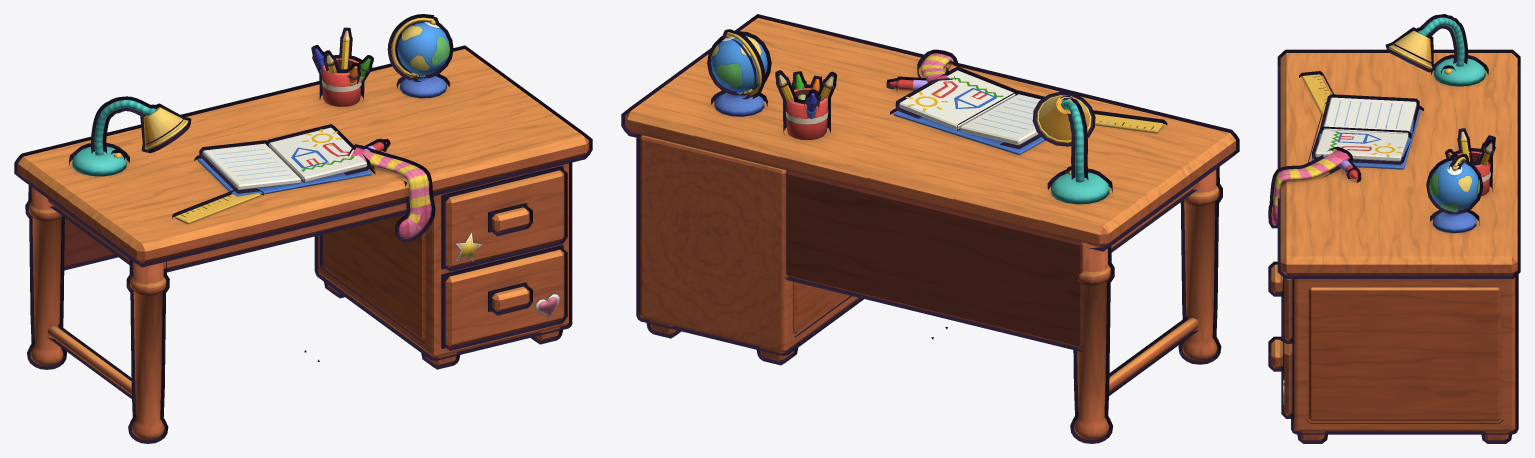
File: Desk.glb
The picture shows the model from 3 angles, left to right: view 1: azimuth 30°, elevation 25°; view 2: azimuth 150°, elevation 25°; view 3: azimuth 270°, elevation 25°; orthographic projection. The views are drawn at different scales.
Visible parts, largest first — view 1: Desk, Desk_Outline; view 2: Desk, Desk_Outline; view 3: Desk, Desk_Outline.
Part boxes in pixels (box(x1,y1,x2,y2)): Desk: box(17, 17, 589, 440); Desk_Outline: box(14, 14, 592, 443); Desk: box(625, 18, 1235, 439); Desk_Outline: box(621, 14, 1239, 443); Desk: box(1271, 17, 1517, 440); Desk_Outline: box(1268, 14, 1520, 443).
Bounding box in the file's own units: 20.25 × 11.79 × 10.23.
Materials: 2 (2 with a texture image).
